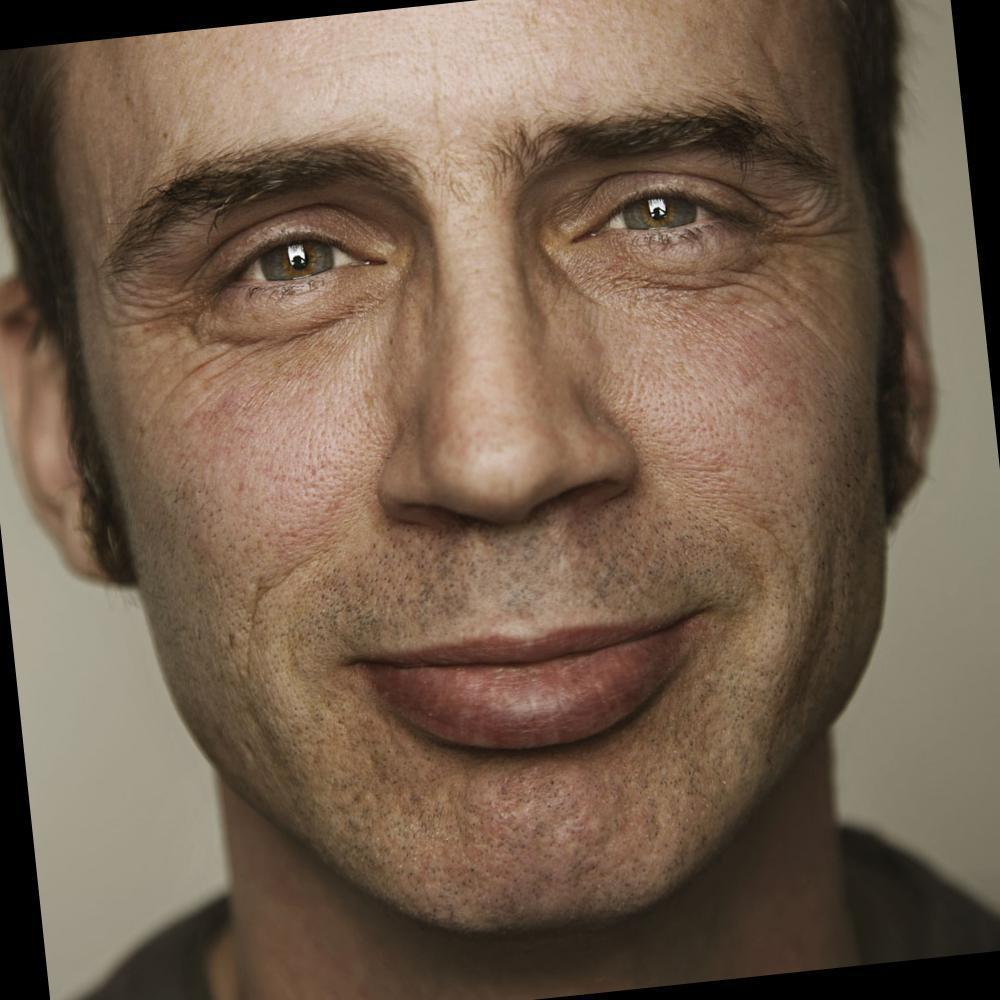Sober: (81, 38, 891, 794)
